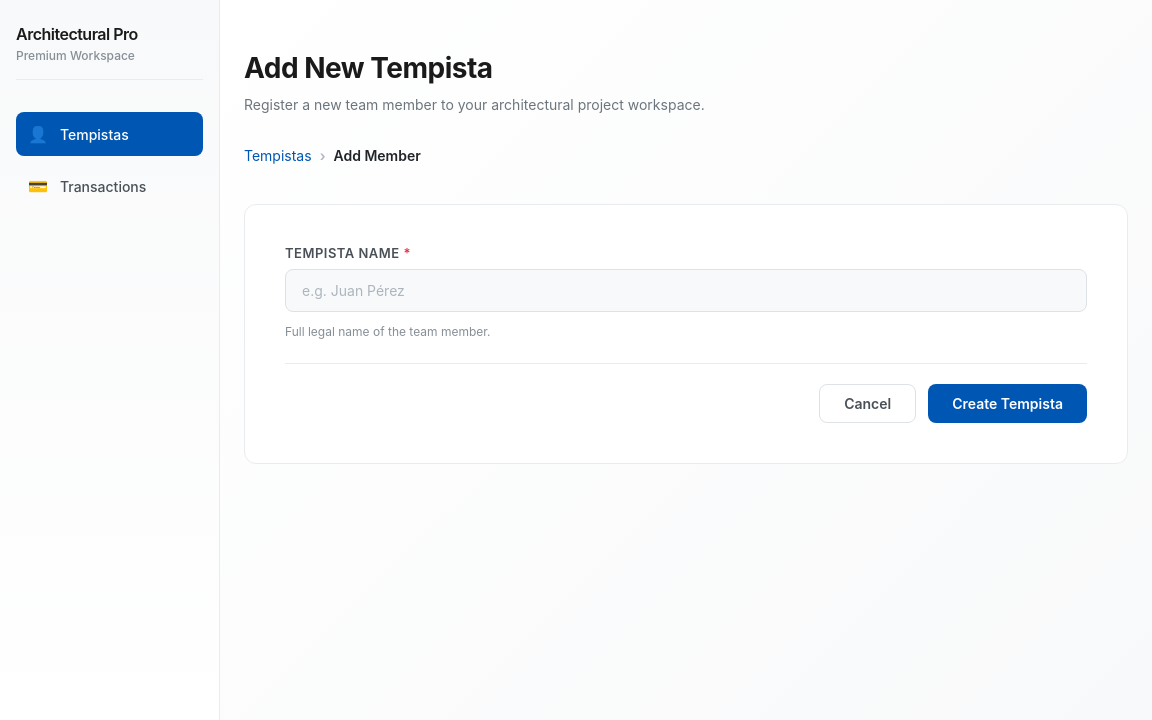
Test: AddTempistaPage › shows the repository error when the create request fails
Type "Ana Perez" into the field labelled "Tempista Name *" at (686, 290), box left=285, top=269, right=1087, bottom=312
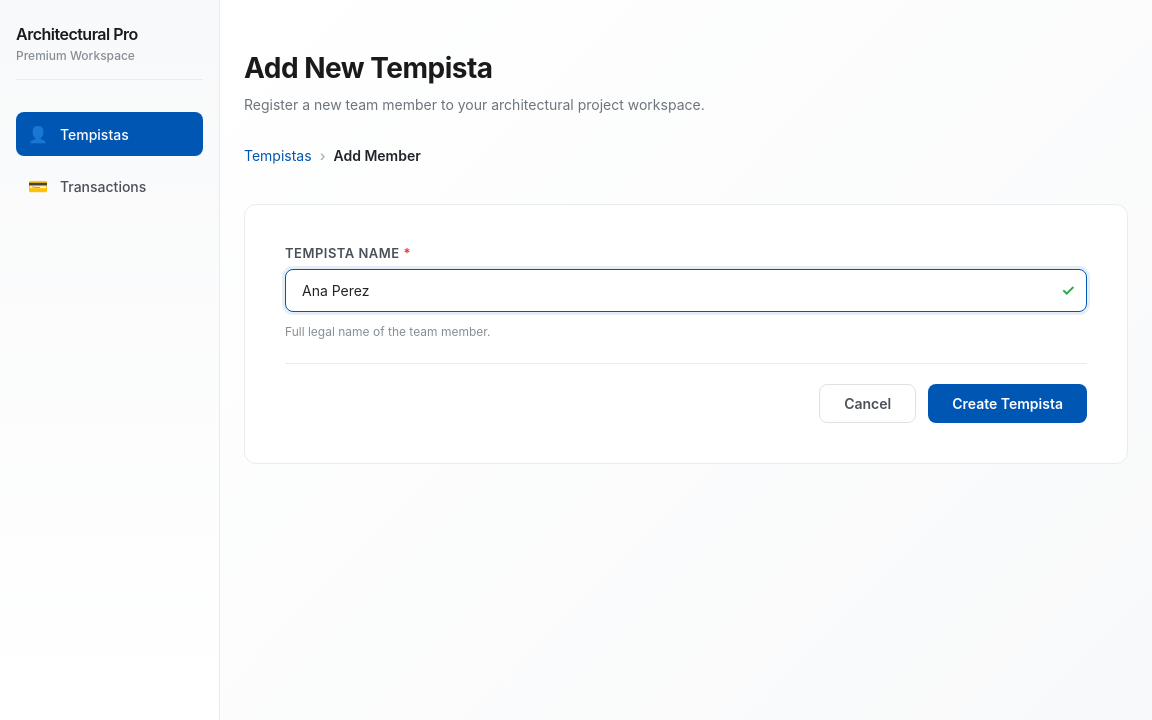
Click the button "Create Tempista" at (1008, 403), box left=928, top=384, right=1087, bottom=423
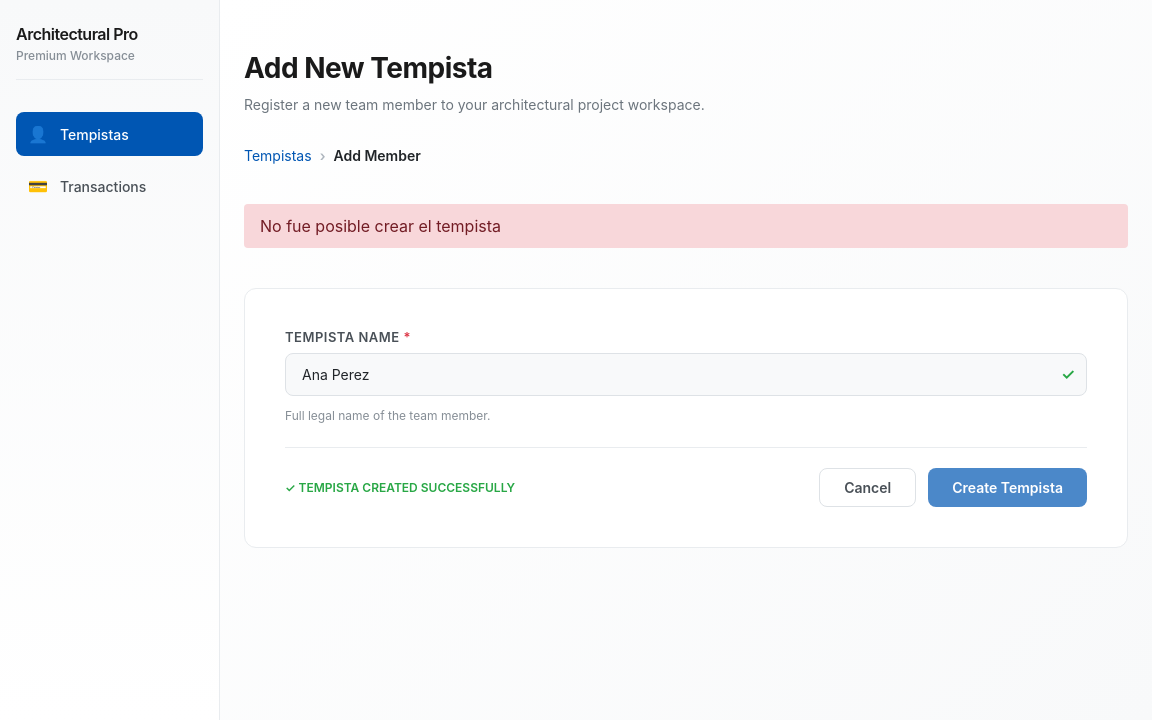
Check: the text "No fue posible crear el tempista" is shown, box left=244, top=204, right=1128, bottom=248
